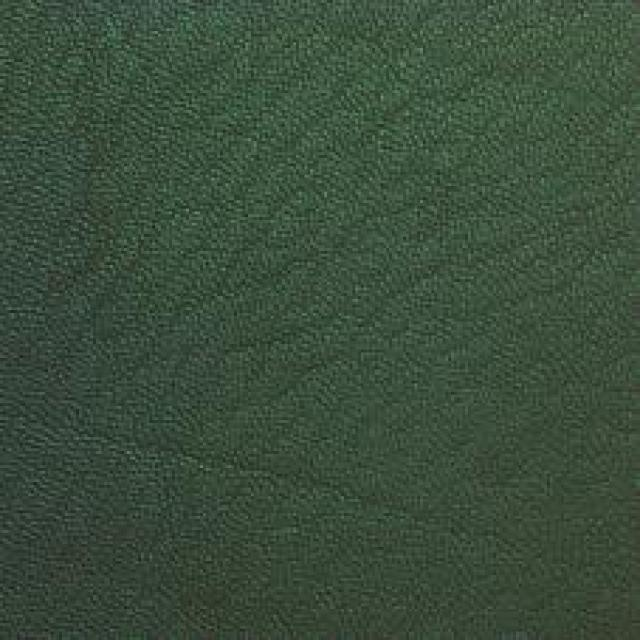Growth Marks: (68, 81, 348, 323), (88, 413, 408, 538)
